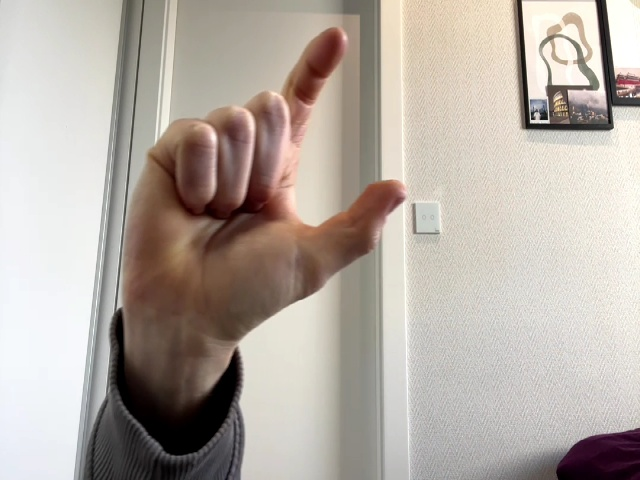C: (123, 28, 406, 345)
